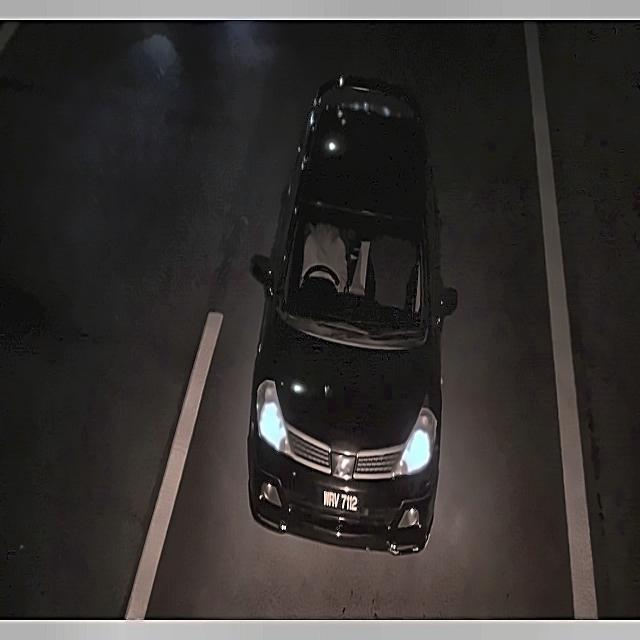car: (321, 485, 361, 524)
